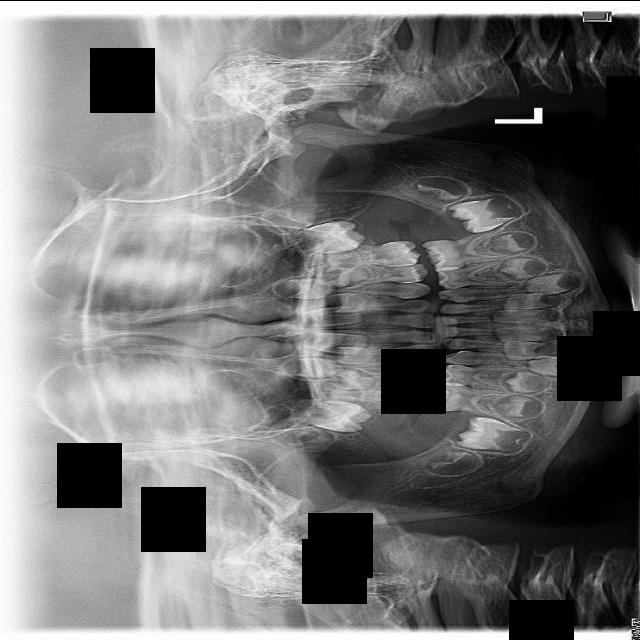Sterngold Implant: (431, 382, 458, 408), (434, 243, 446, 255), (414, 327, 434, 334)
